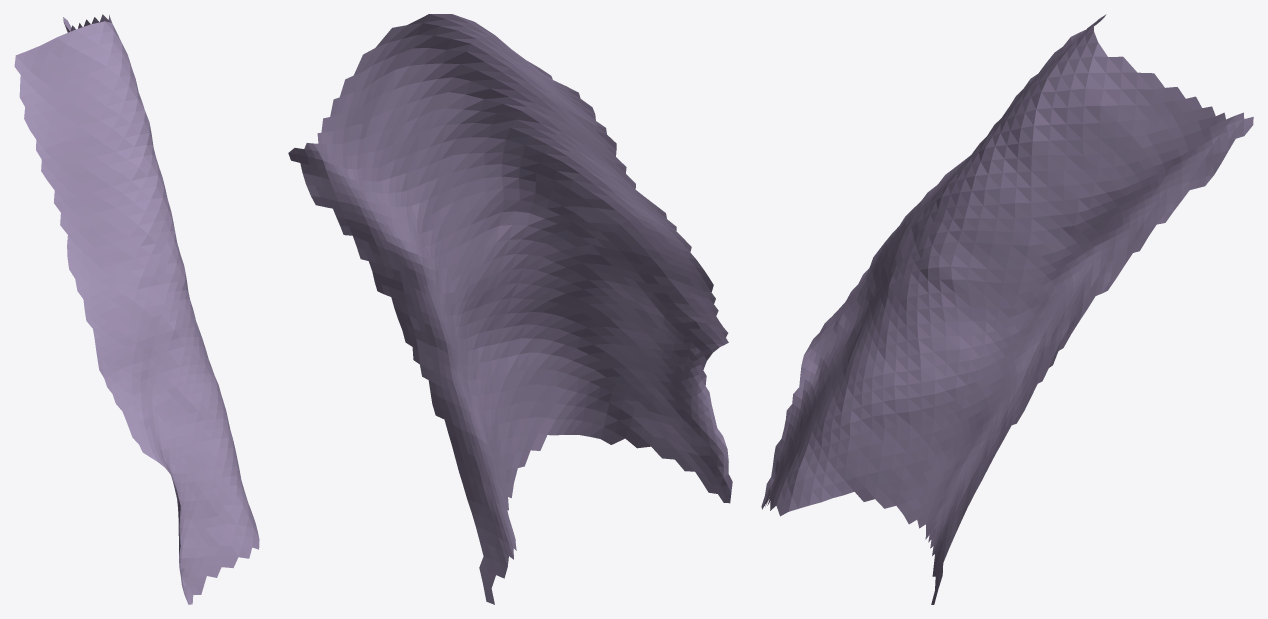
File: lh_caudalanteriorcingulate.glb
The picture shows the model from 3 angles, left to right: view 1: azimuth 30°, elevation 25°; view 2: azimuth 150°, elevation 25°; view 3: azimuth 270°, elevation 25°; orthographic projection. The views are drawn at different scales.
Visible parts, largest first — view 1: world; view 2: world; view 3: world.
Part boxes in pixels (<box>): world: <box>14,14,259,604</box>; world: <box>288,14,732,604</box>; world: <box>761,14,1253,604</box>.
Size of the model in its own units: 10.06 by 33.57 by 27.19.
